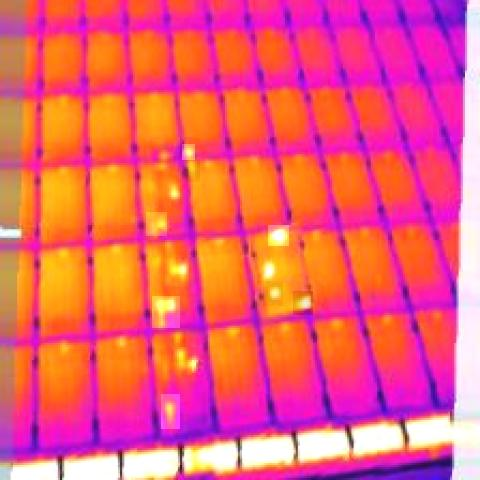fault: (152, 296, 180, 328), (174, 349, 202, 375), (165, 259, 189, 287), (161, 394, 180, 429), (257, 255, 279, 285), (146, 212, 167, 236), (263, 281, 283, 306), (293, 291, 313, 315), (268, 225, 289, 246), (186, 159, 200, 182), (167, 182, 180, 204), (172, 330, 186, 347), (182, 144, 195, 160)
